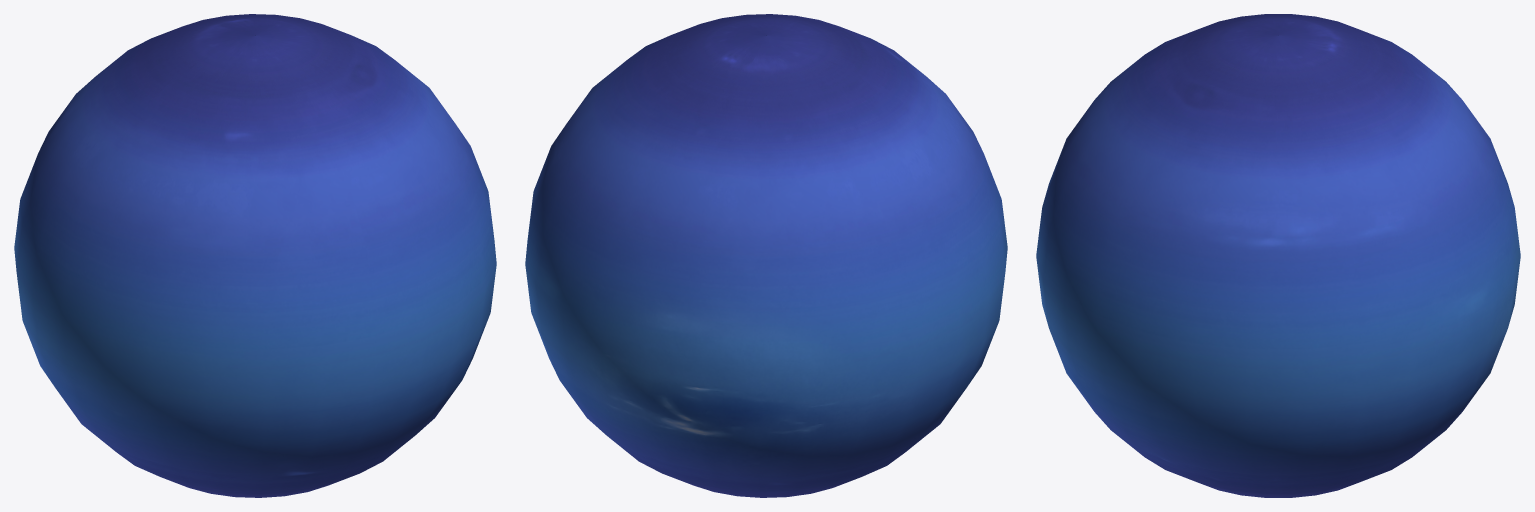
File: neptune_01.fbx
3 renders of one model, left to right at view 1: azimuth 30°, elevation 25°; view 2: azimuth 150°, elevation 25°; view 3: azimuth 270°, elevation 25°, orthographic.
Parts seen in each view (by area): view 1: neptune_model; view 2: neptune_model; view 3: neptune_model.
Part boxes in pixels (x1,y1,x2,y2): neptune_model: (14,14,496,497); neptune_model: (525,14,1007,497); neptune_model: (1036,14,1520,497).
Size of the model in its own units: 199 by 200 by 200.
1 material, 1 textured.
